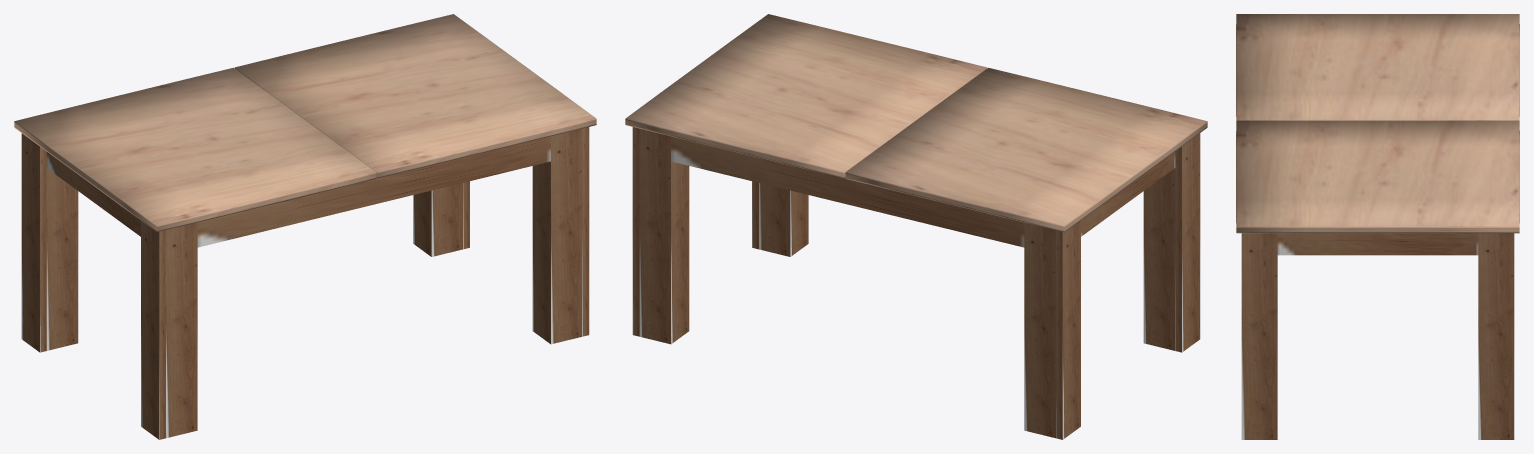
Rendered from oscar.glb.
3 views of the same model, side by side, from view 1: azimuth 30°, elevation 25°; view 2: azimuth 150°, elevation 25°; view 3: azimuth 270°, elevation 25° (orthographic).
Parts seen in each view (by area): view 1: oscar; view 2: oscar; view 3: oscar.
Boxes of the visible parts, x1,y1,x2,y2 form: oscar: (14, 14, 596, 439); oscar: (625, 14, 1207, 439); oscar: (1236, 14, 1519, 439).
Size of the model in its own units: 1.61 by 0.765 by 0.905.
3 materials, 2 textured.
